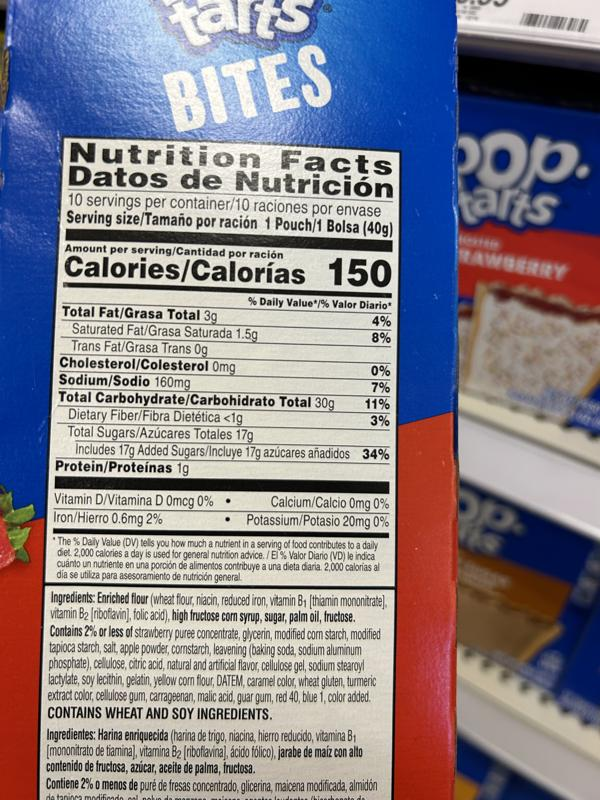ingredients: (48, 591, 391, 624)
